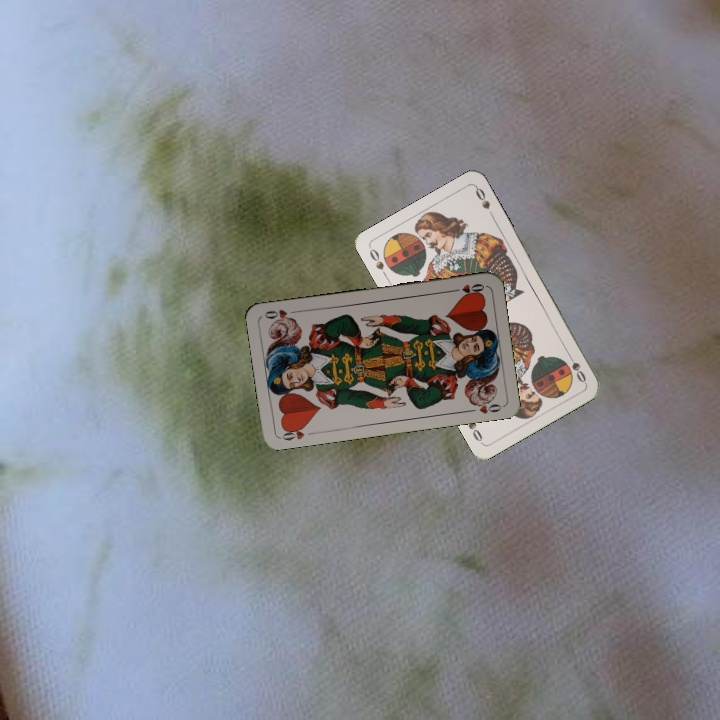HO: (447, 280, 487, 298), (277, 422, 308, 443)
SO: (563, 348, 589, 385), (365, 244, 391, 281)
